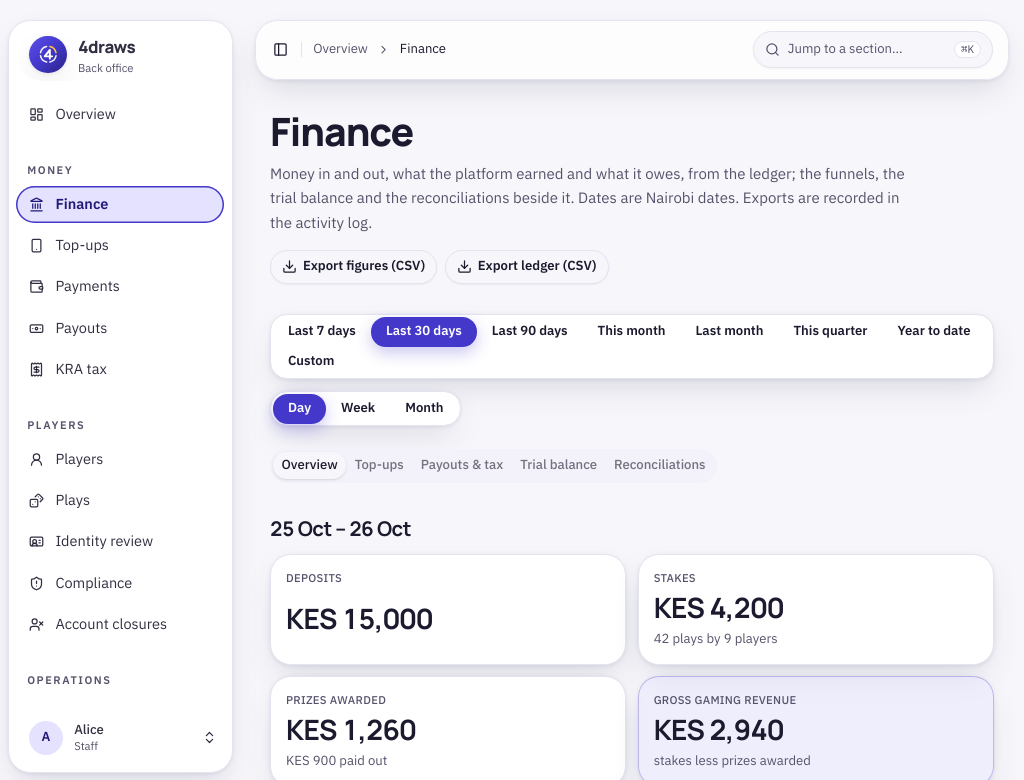
finance › groups by week or month on request and names the periods by their ends
Expected: the heading "Finance" is shown, [270,104,413,158]
Click the button "Week": x=358, y=408 [326,394,390,424]
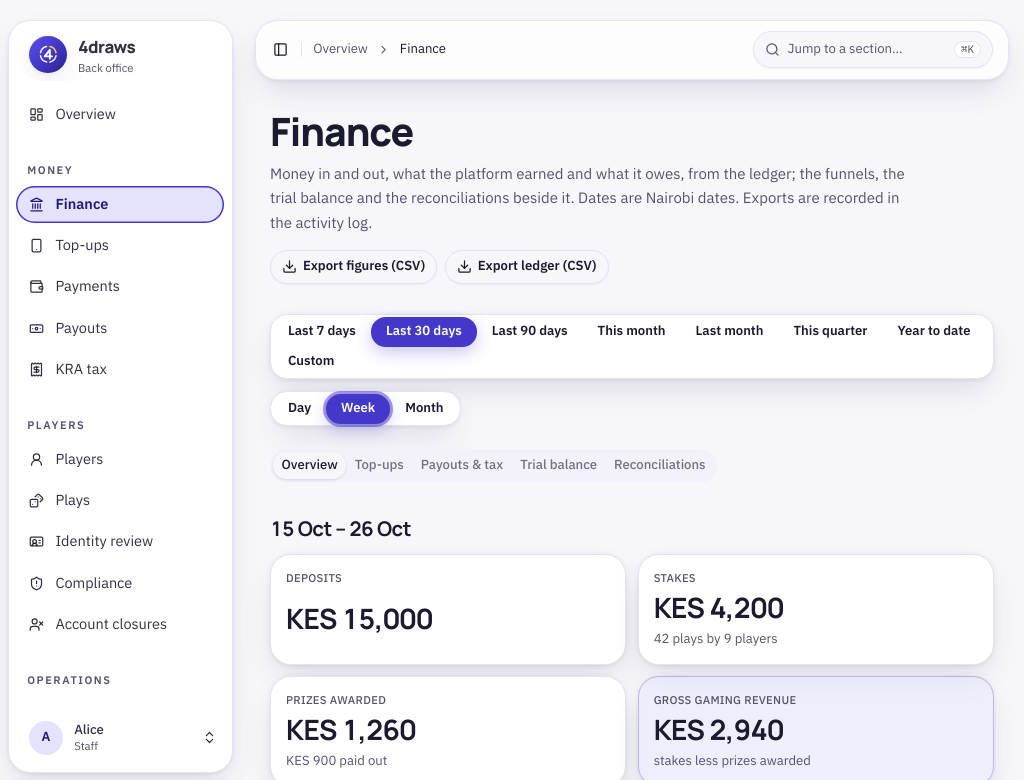
Now the button "Week" is pressed, box [326,394,390,424]
